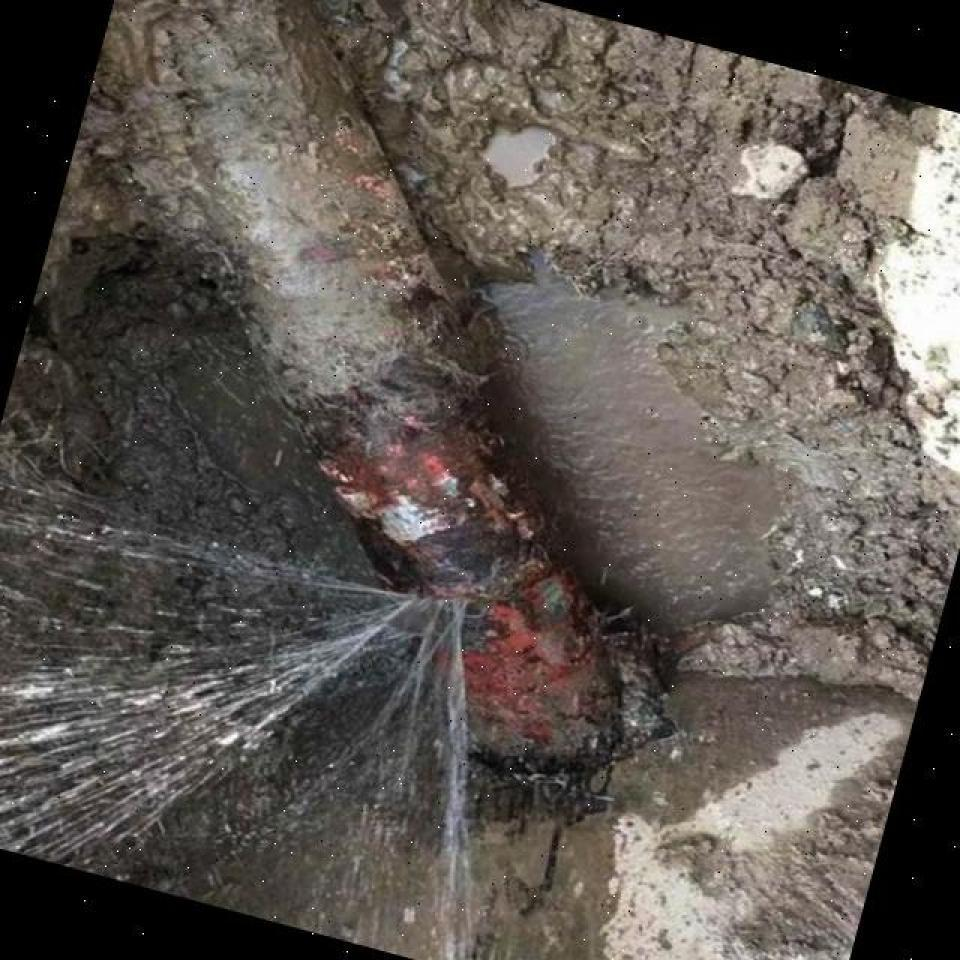pipe burst: (0, 480, 484, 959)
water accumulation: (162, 257, 786, 648), (472, 113, 559, 190)
